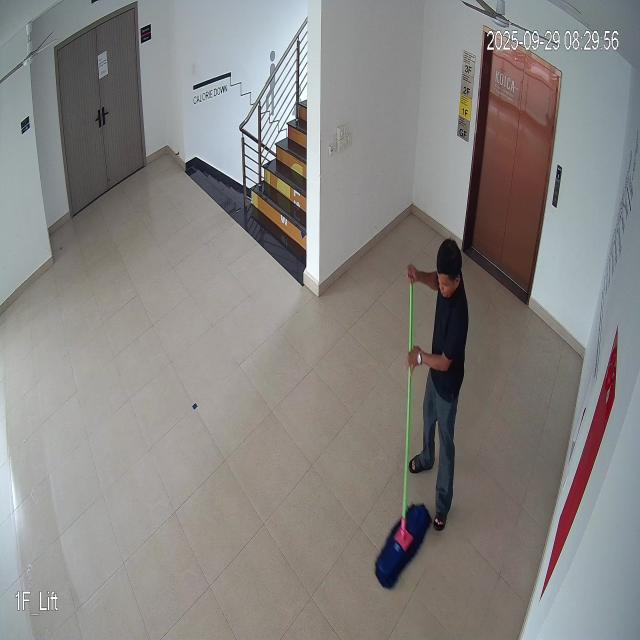face: (434, 234, 466, 307)
